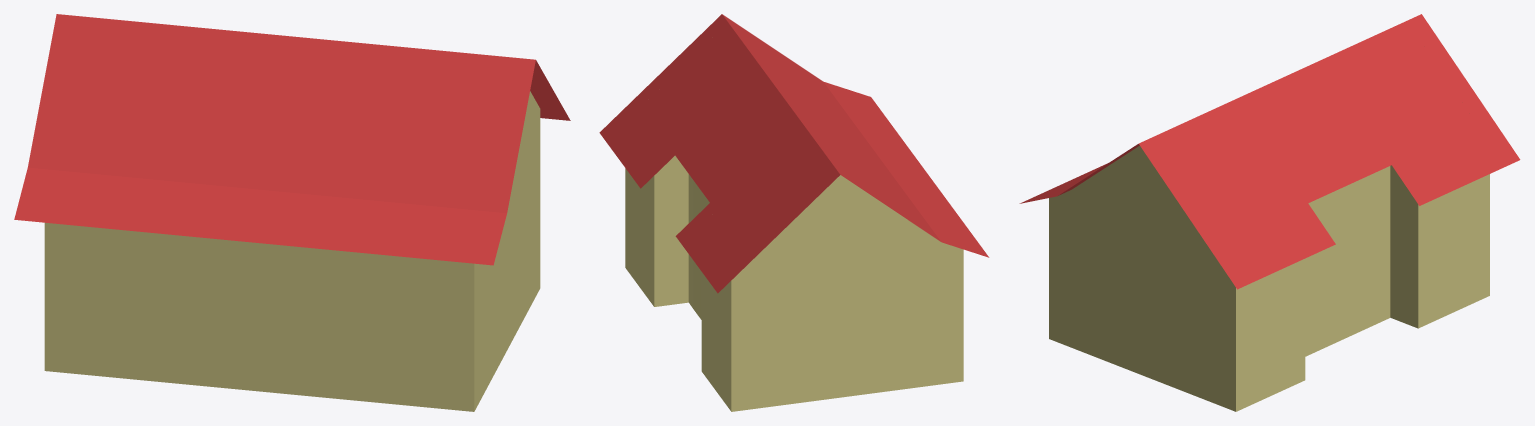
3 views of the same model, side by side, from view 1: azimuth 30°, elevation 25°; view 2: azimuth 150°, elevation 25°; view 3: azimuth 270°, elevation 25° (orthographic). The views are drawn at different scales.
Size of the model in its own units: 23.5 by 23.19 by 12.37.
